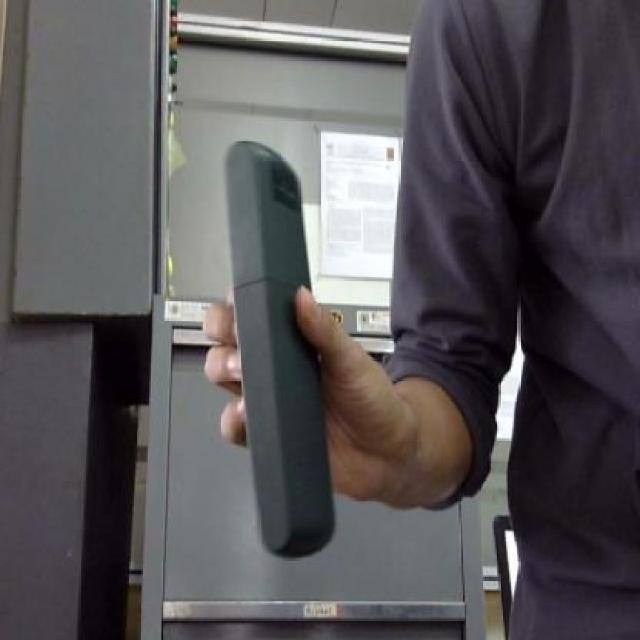Plastic: (218, 133, 352, 571)
